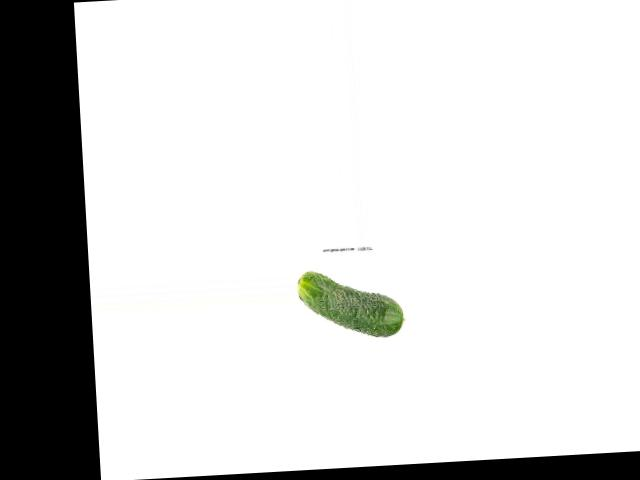cucumber: (297, 266, 405, 341)
